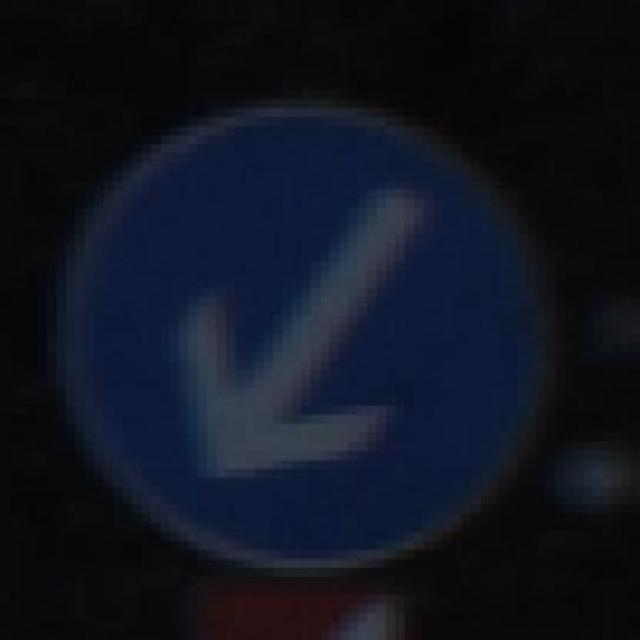Keep-Left: (47, 90, 556, 568)
